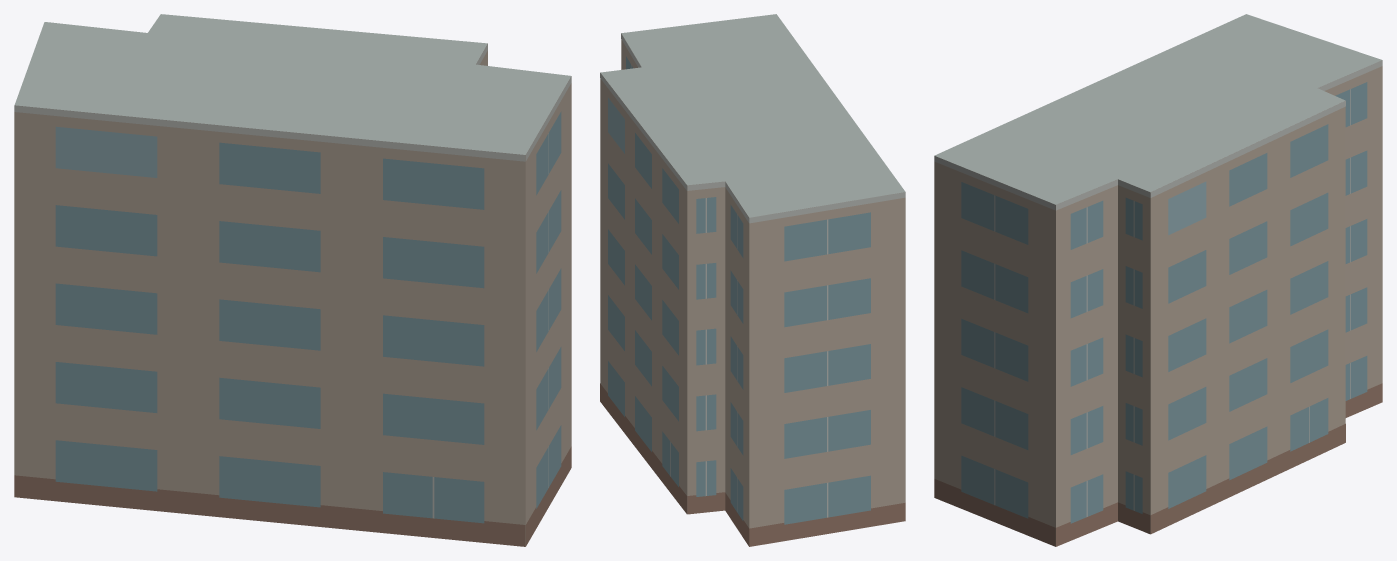
The model's file is survey-upis-32769055.glb.
3 renders of one model, left to right at view 1: azimuth 30°, elevation 25°; view 2: azimuth 150°, elevation 25°; view 3: azimuth 270°, elevation 25°, orthographic. The views are drawn at different scales.
Visible parts, largest first — view 1: survey-upis-32769055.tmp; view 2: survey-upis-32769055.tmp; view 3: survey-upis-32769055.tmp.
Boxes of the visible parts, bbox=[...] form: survey-upis-32769055.tmp: bbox=[14, 14, 571, 546]; survey-upis-32769055.tmp: bbox=[600, 14, 905, 546]; survey-upis-32769055.tmp: bbox=[934, 14, 1382, 546].
Bounding box in the file's own units: 17.11 × 14.3 × 17.
